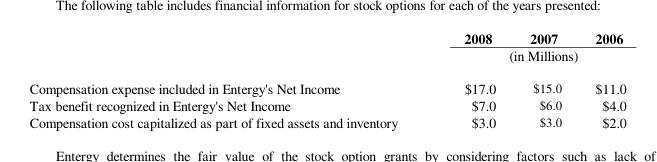table: (28, 28, 625, 130)
table column: (28, 28, 430, 130), (430, 28, 512, 130), (512, 28, 577, 130), (577, 28, 625, 130)
table column header: (28, 28, 625, 71)
table row: (28, 46, 625, 71), (28, 71, 625, 96), (28, 28, 625, 46), (28, 96, 625, 113), (28, 113, 625, 130)
table spanning cell: (430, 46, 625, 71)
